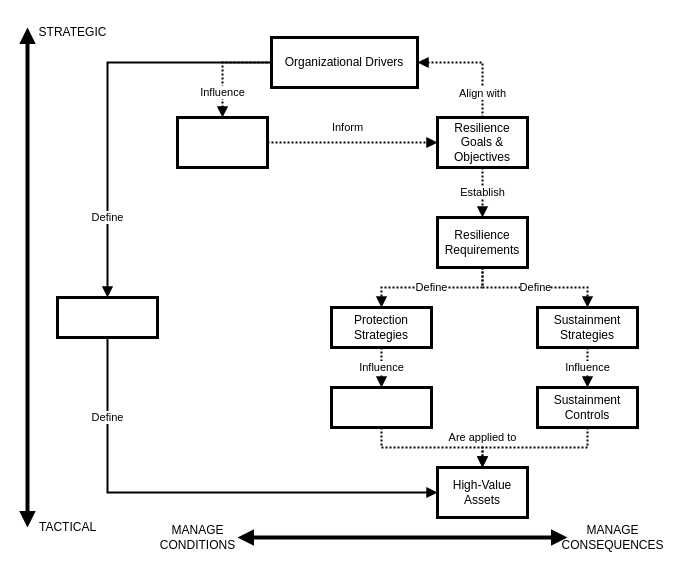
Some shapes in this 694 by 574 pixel diagram are drawn without their labels. Here are the shapes that lost their labels. From the top down, the box of each, then its label:
(176, 116, 268, 168): Risk Assumptions & Tolerances
(56, 296, 158, 338): High-Value Services
(330, 386, 432, 428): Protection Controls
